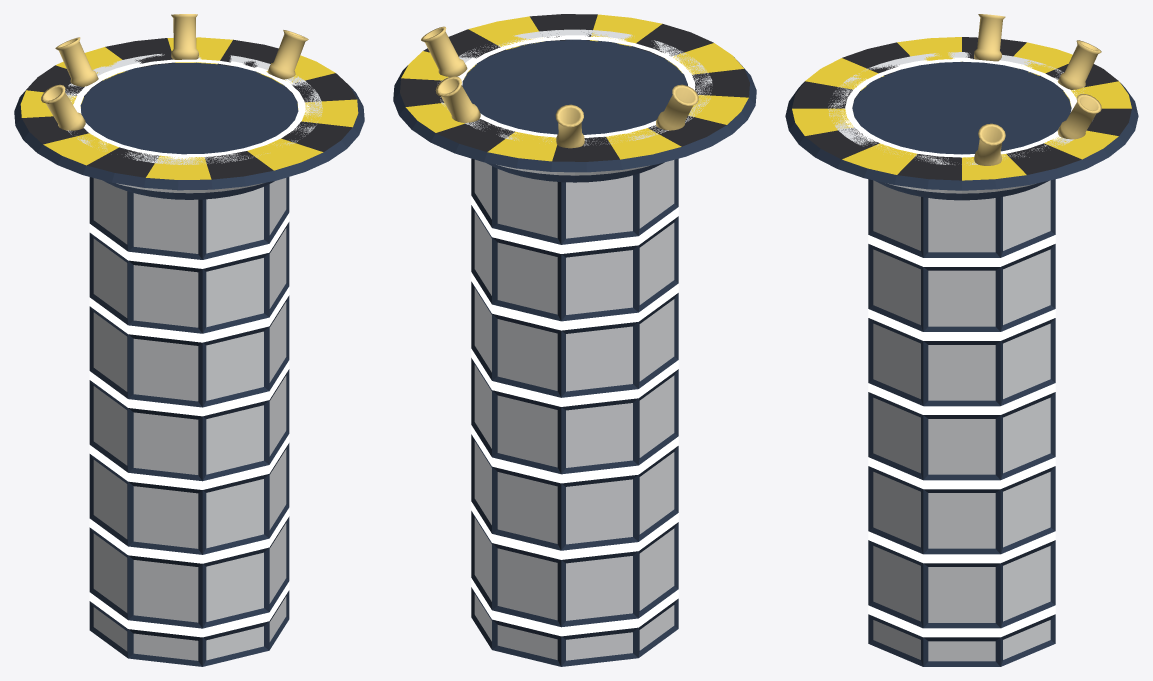
The model's file is score_tower.glb.
3 renders of one model, left to right at view 1: azimuth 30°, elevation 25°; view 2: azimuth 150°, elevation 25°; view 3: azimuth 270°, elevation 25°, orthographic. The views are drawn at different scales.
Visible parts, largest first — view 1: TowerColumn, TowerCollar, TowerPlatform, TowerCannon1, TowerCannon3, TowerCannon0, TowerCannon2; view 2: TowerColumn, TowerCollar, TowerPlatform, TowerCannon0, TowerCannon2, TowerCannon1, TowerCannon3; view 3: TowerColumn, TowerCollar, TowerPlatform, TowerCannon3, TowerCannon2, TowerCannon1, TowerCannon0.
Boxes of the visible parts, <box> form: TowerColumn: <box>89,177,289,666</box>; TowerCollar: <box>14,37,364,190</box>; TowerPlatform: <box>65,53,322,199</box>; TowerCannon1: <box>41,84,85,130</box>; TowerCannon3: <box>55,37,98,86</box>; TowerCannon0: <box>267,30,308,79</box>; TowerCannon2: <box>171,14,198,59</box>; TowerColumn: <box>471,158,678,666</box>; TowerCollar: <box>393,14,756,172</box>; TowerPlatform: <box>439,29,712,182</box>; TowerCannon0: <box>421,26,467,76</box>; TowerCannon2: <box>435,76,480,122</box>; TowerCannon1: <box>656,84,698,130</box>; TowerCannon3: <box>555,104,584,148</box>; TowerColumn: <box>868,179,1055,666</box>; TowerCollar: <box>785,37,1138,190</box>; TowerPlatform: <box>828,52,1085,200</box>; TowerCannon3: <box>1057,40,1101,89</box>; TowerCannon2: <box>1057,94,1101,139</box>; TowerCannon1: <box>974,14,1005,61</box>; TowerCannon0: <box>974,123,1005,165</box>.
Bounding box in the file's own units: 2.16 × 3.77 × 2.16.
